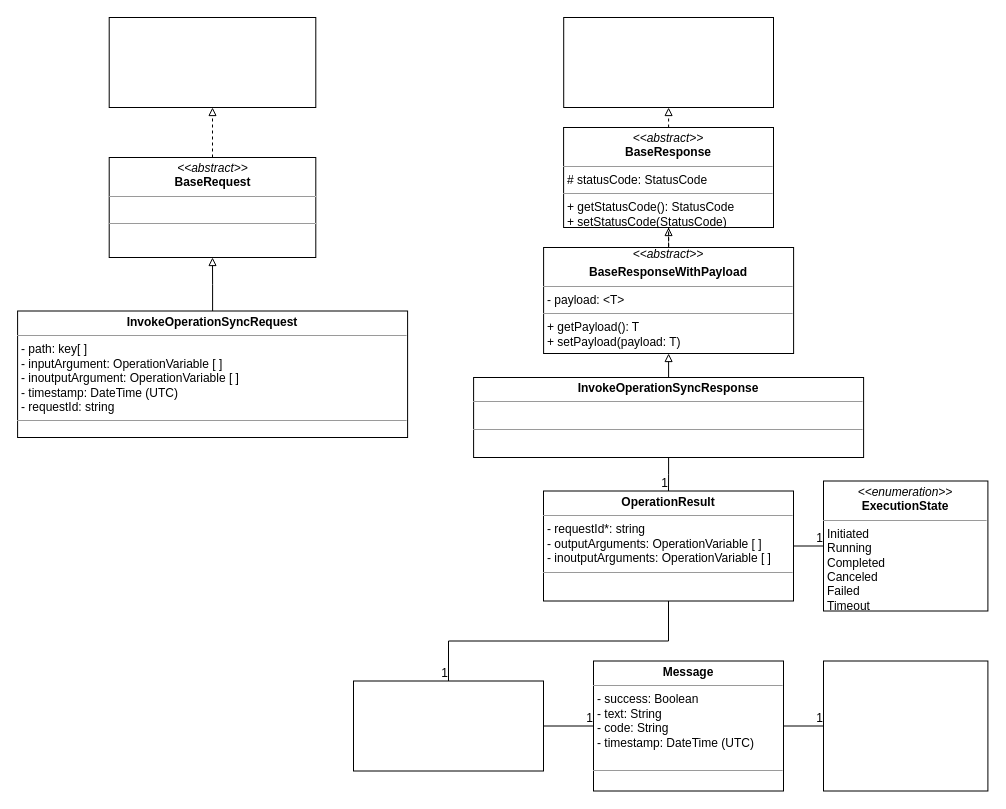
Image size: 1006x809. Some labels were removed from this diagram. The box of each missing label's shape, as (x1, y1, x2, y2) in pixels:
<<enumeration>> MessageTypeEnum Info Warning Error Excption: (822, 660, 988, 791)
<<Interface>> Request: (108, 16, 316, 108)
<<Interface>> Response: (563, 16, 774, 108)
Result - success: Boolean: (352, 680, 544, 771)
